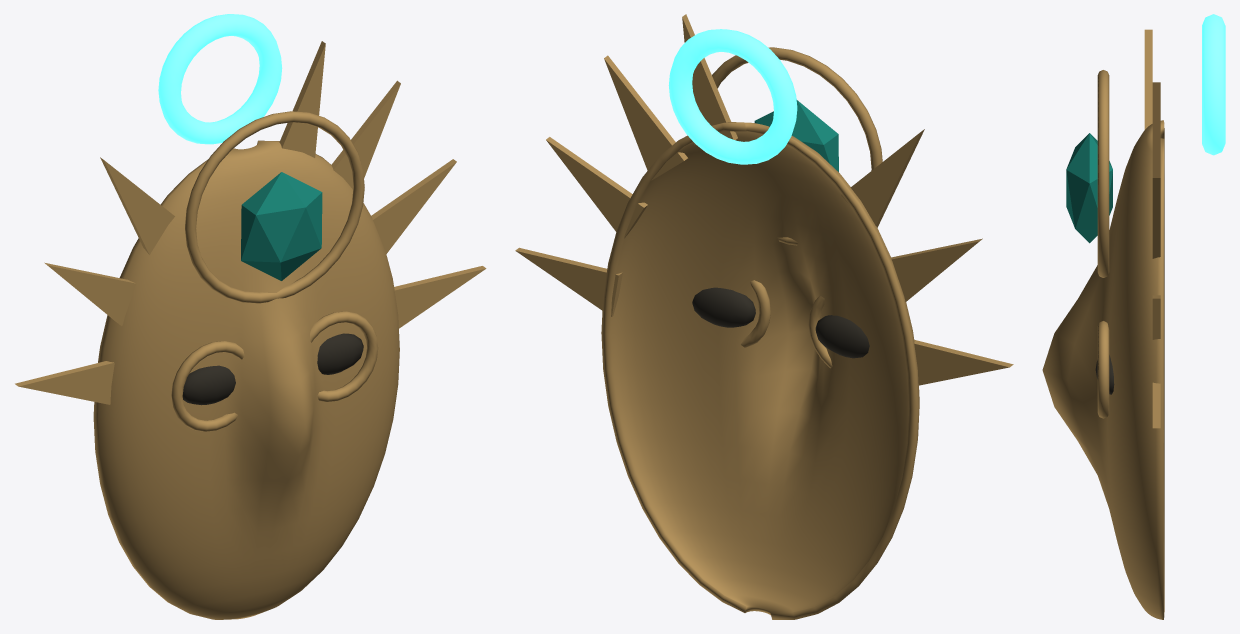
The model's file is sun_mask_secret.fbx.
The picture shows the model from 3 angles, left to right: view 1: azimuth 30°, elevation 25°; view 2: azimuth 150°, elevation 25°; view 3: azimuth 270°, elevation 25°; orthographic projection. The views are drawn at different scales.
Parts seen in each view (by area): view 1: Reviewed_sun_mask_secret_Body.005, TH10_SunMask_Handle.009; view 2: Reviewed_sun_mask_secret_Body.005, TH10_SunMask_Handle.009; view 3: Reviewed_sun_mask_secret_Body.005, TH10_SunMask_Handle.009.
Part boxes in pixels (bbox=[...]): Reviewed_sun_mask_secret_Body.005: bbox=[15, 41, 486, 619]; TH10_SunMask_Handle.009: bbox=[158, 14, 282, 144]; Reviewed_sun_mask_secret_Body.005: bbox=[515, 14, 1013, 619]; TH10_SunMask_Handle.009: bbox=[668, 29, 797, 164]; Reviewed_sun_mask_secret_Body.005: bbox=[1042, 29, 1164, 619]; TH10_SunMask_Handle.009: bbox=[1202, 14, 1225, 155].
Size of the model in its own units: 0.2799 by 0.3295 by 0.093.
